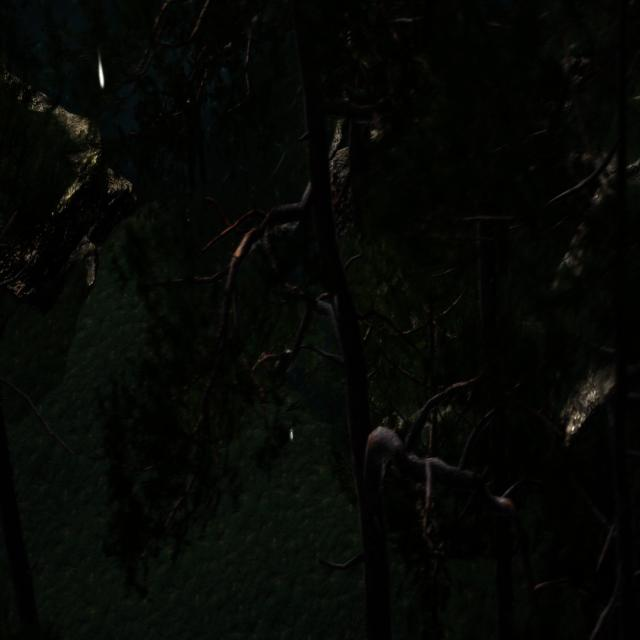Human: (173, 52, 210, 214)
